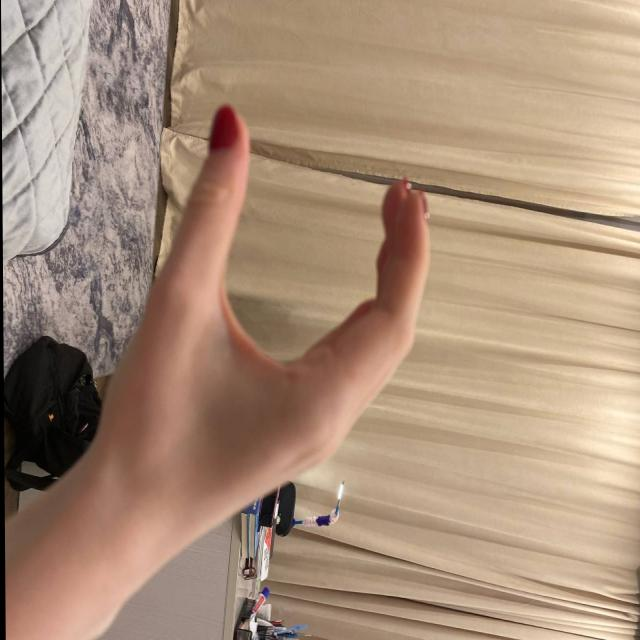s: (87, 49, 471, 513)
